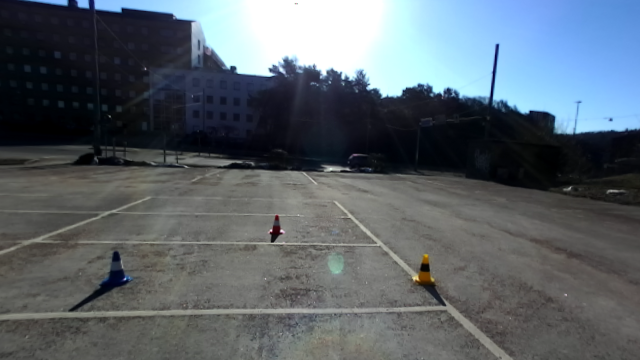blue: (100, 250, 134, 285)
orange: (268, 215, 286, 238)
yellow: (411, 251, 436, 287)
